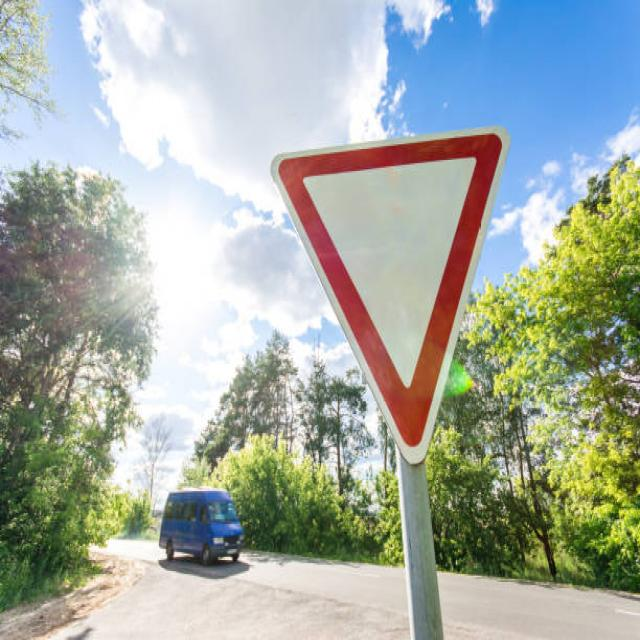give_way: (260, 112, 517, 471)
